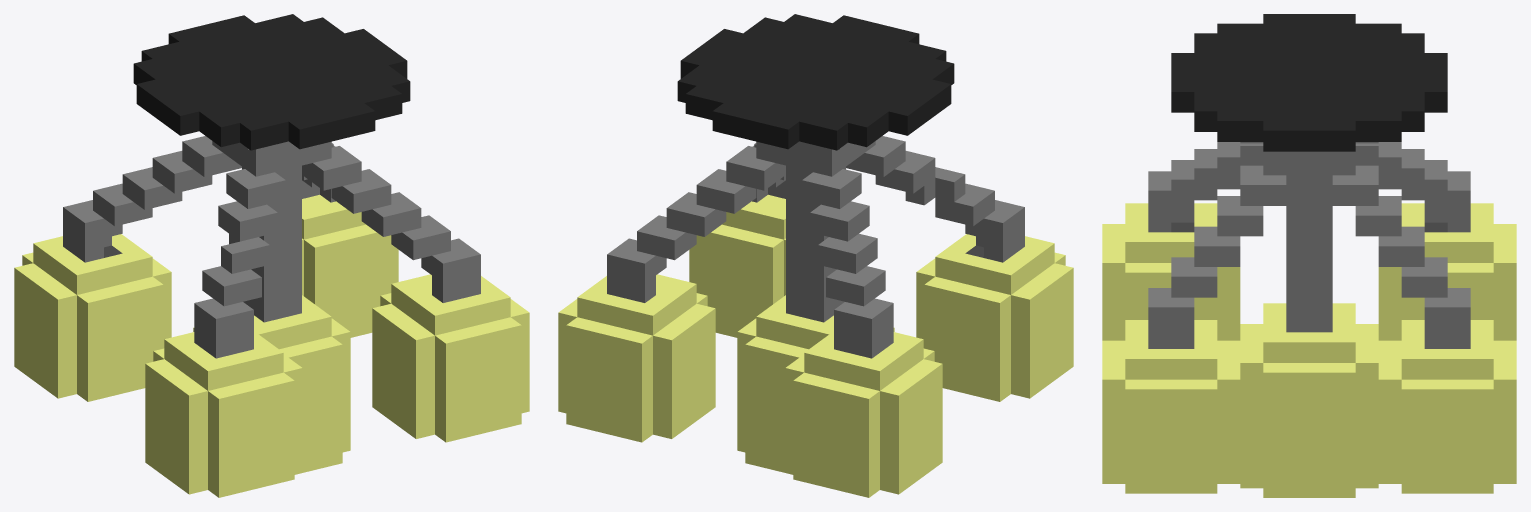
File: restaurant-0.obj
3 renders of one model, left to right at view 1: azimuth 30°, elevation 25°; view 2: azimuth 150°, elevation 25°; view 3: azimuth 270°, elevation 25°, orthographic. The views are drawn at different scales.
Bounding box in the file's own units: 1.8 × 1.9 × 1.8.
Materials: 1 (1 with a texture image).
